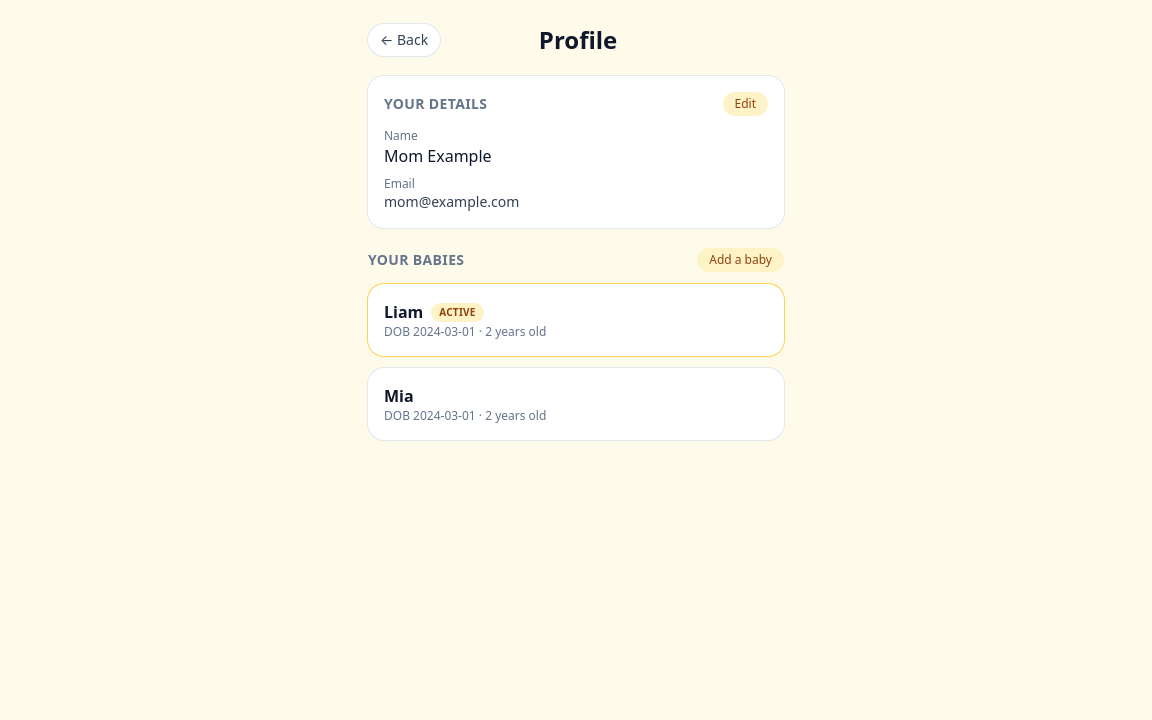
Test: ProfilePage → BabyProfilePage navigation › opens the tapped baby, and switching babies shows only that baby's data
The image size is (1152, 720).
# Open baby A.
Step 1. Click the button with aria-label "open liam's profile" → x=404, y=312, box [384,300,768,340]
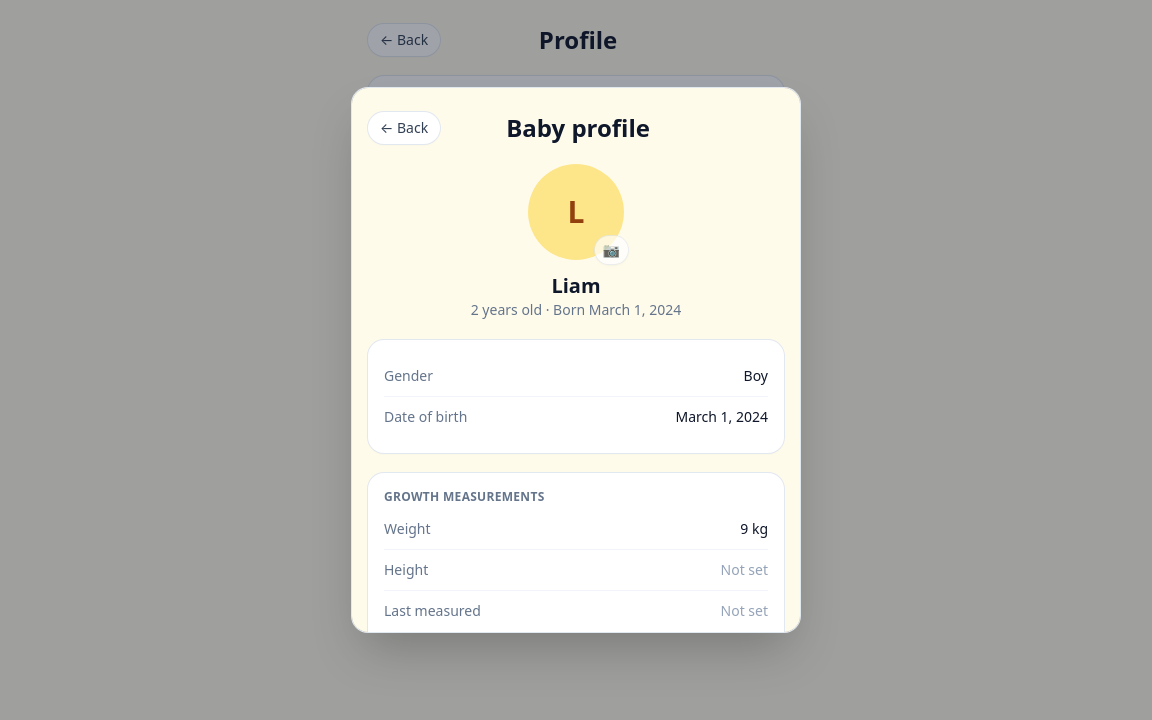
Now the heading "Liam" is shown, box [551,272,600,299]
Now the text "Boy" is shown, box [744,366,768,386]
Now the text "9 kg" is shown, box [740,519,768,539]
# Back to the list, then open baby B.
Step 2. Click the button with aria-label "back to profile" → x=404, y=128, box [368,112,440,144]
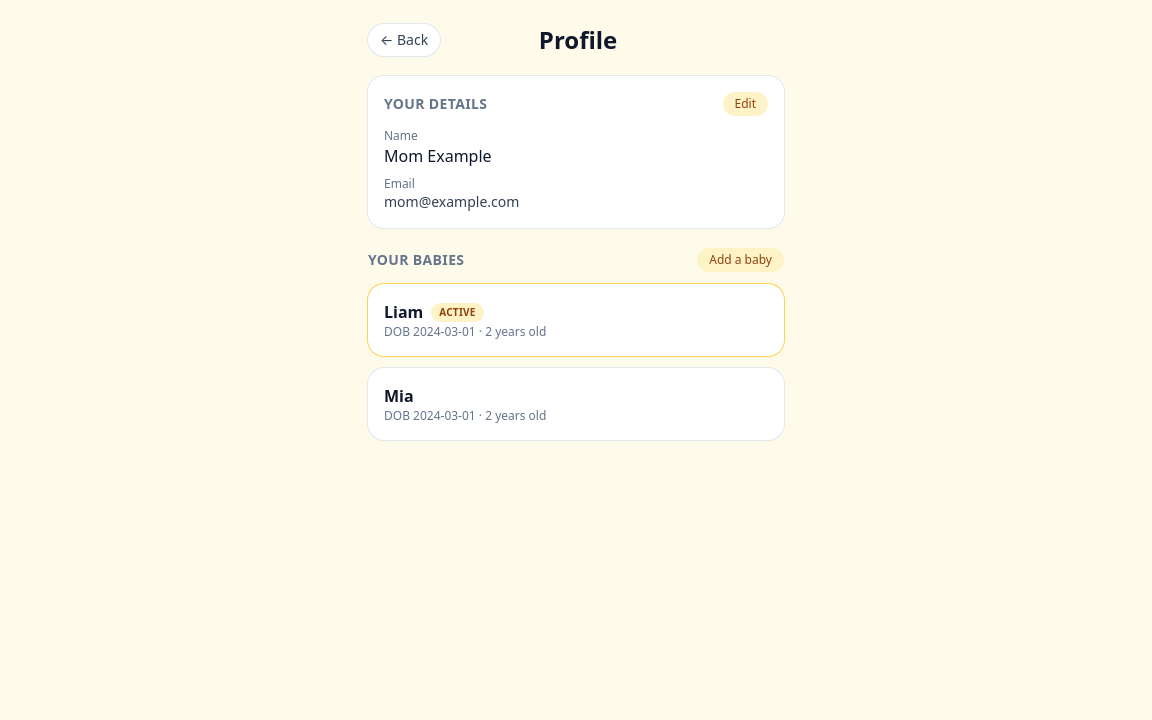
Step 3. Click the button with aria-label "open mia's profile" → x=444, y=416, box [384,384,768,424]
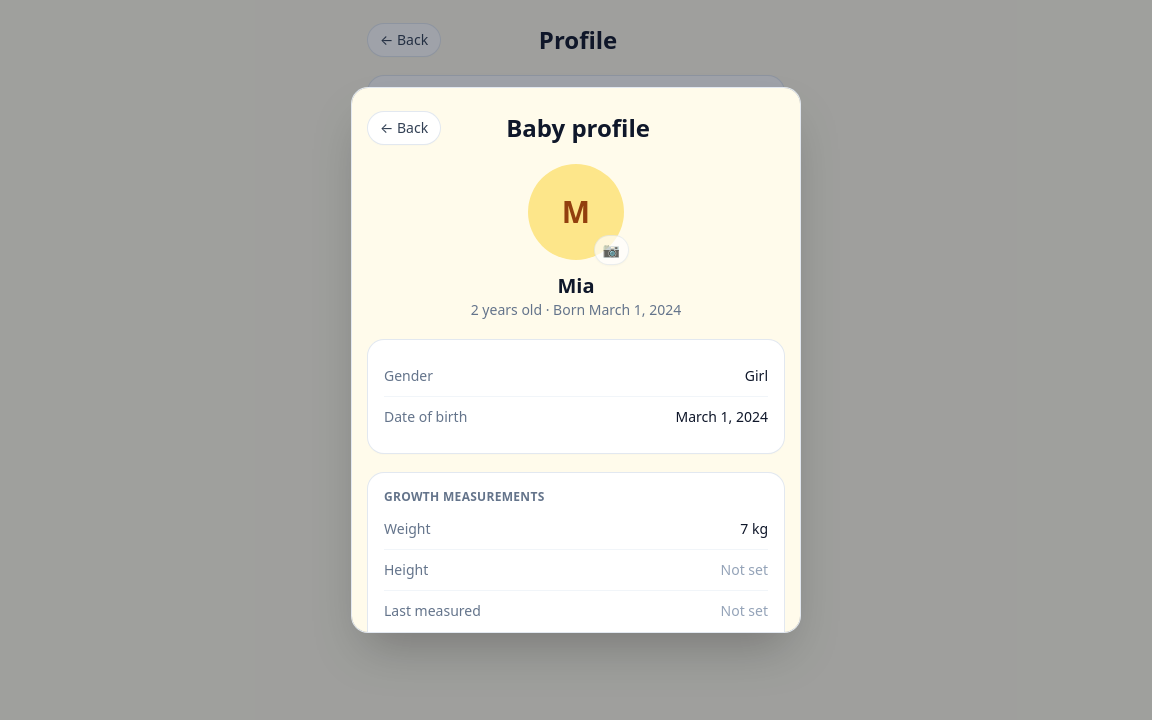
Now the heading "Mia" is shown, box [558,272,594,299]
Now the text "Girl" is shown, box [745,366,768,386]
Now the text "7 kg" is shown, box [740,519,768,539]
